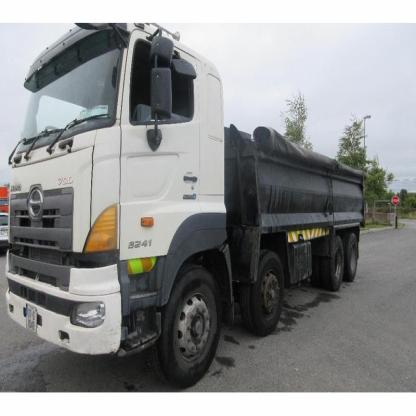dump_truck: (8, 25, 375, 390)
